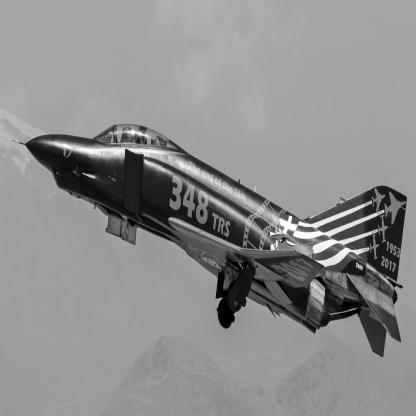F4: (13, 125, 408, 359)
